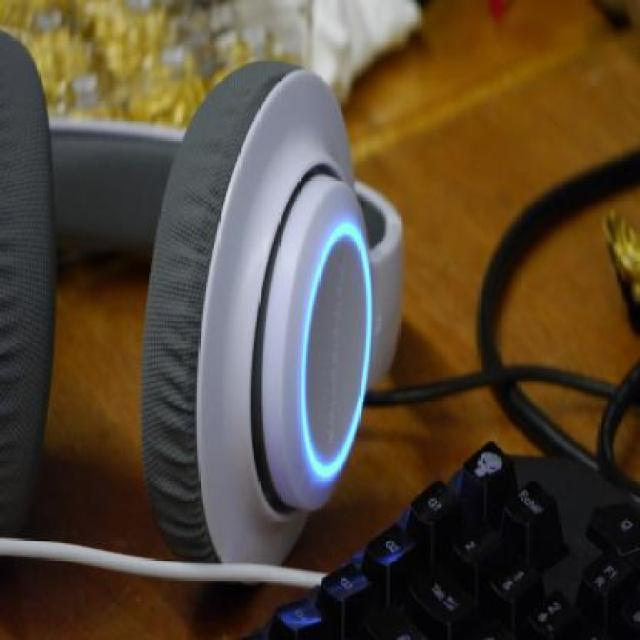earphone: (0, 53, 433, 558)
